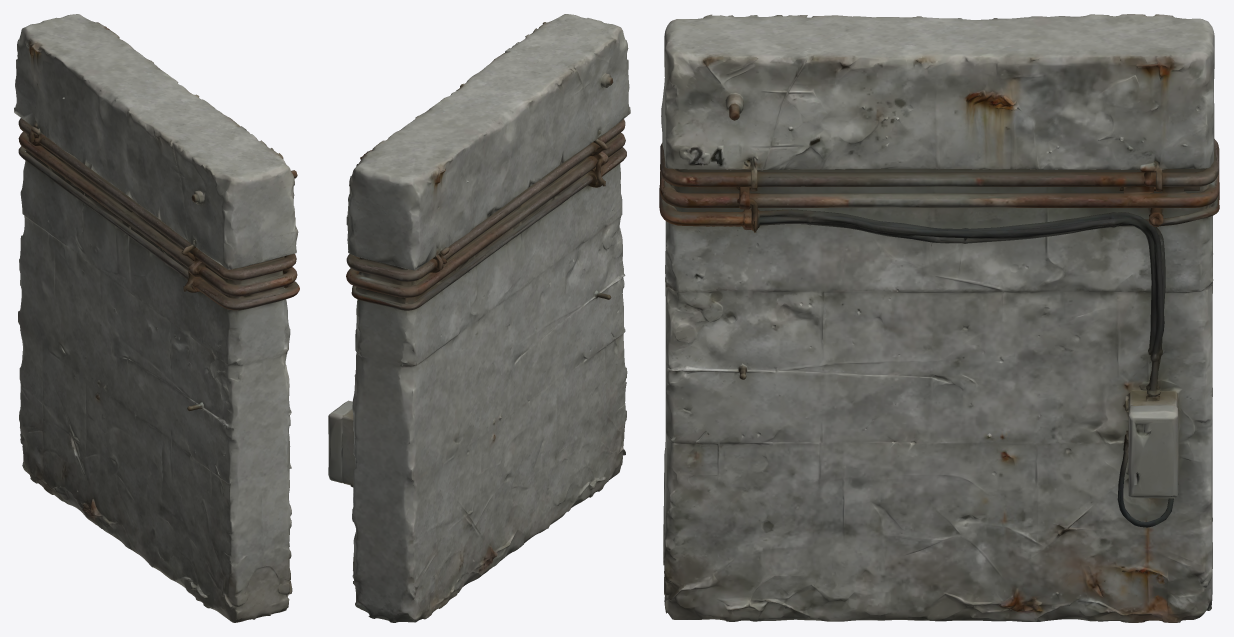
The model's file is room_bunker_wall_5.glb.
3 views of the same model, side by side, from view 1: azimuth 30°, elevation 25°; view 2: azimuth 150°, elevation 25°; view 3: azimuth 270°, elevation 25° (orthographic). The views are drawn at different scales.
Visible parts, largest first — view 1: tripo_node_0860f8cf-7f30-4b2f-a94d-37c8700fd058; view 2: tripo_node_0860f8cf-7f30-4b2f-a94d-37c8700fd058; view 3: tripo_node_0860f8cf-7f30-4b2f-a94d-37c8700fd058.
Part boxes in pixels (x1,y1,x2,y2): tripo_node_0860f8cf-7f30-4b2f-a94d-37c8700fd058: (14,14,299,622); tripo_node_0860f8cf-7f30-4b2f-a94d-37c8700fd058: (328,14,630,622); tripo_node_0860f8cf-7f30-4b2f-a94d-37c8700fd058: (659,14,1219,622).
Size of the model in its own units: 0.2657 by 0.9797 by 0.8748.
1 material, 1 textured.
